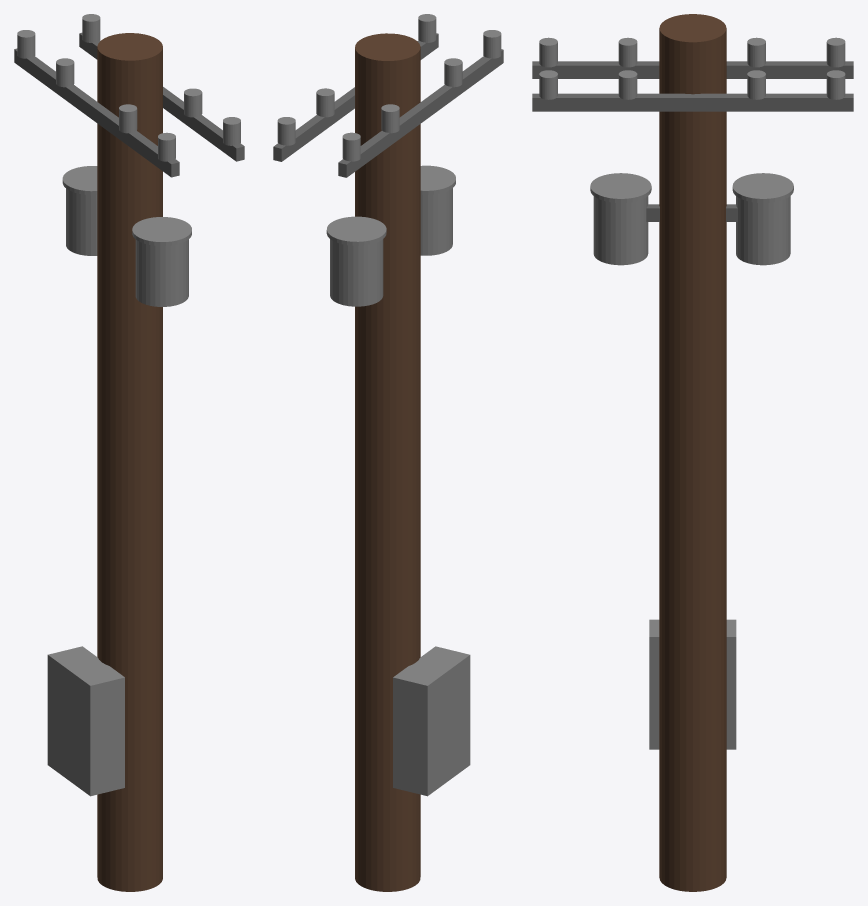
Rendered from Stroompaal.fbx.
3 views of the same model, side by side, from view 1: azimuth 30°, elevation 25°; view 2: azimuth 150°, elevation 25°; view 3: azimuth 270°, elevation 25° (orthographic). The views are drawn at different scales.
Visible parts, largest first — view 1: Cylinder; view 2: Cylinder; view 3: Cylinder.
Boxes of the visible parts, x1=… form: Cylinder: x1=14, y1=14, x2=244, y2=891; Cylinder: x1=273, y1=14, x2=503, y2=891; Cylinder: x1=532, y1=14, x2=853, y2=891.
Bounding box in the file's own units: 190 × 1506 × 516.
